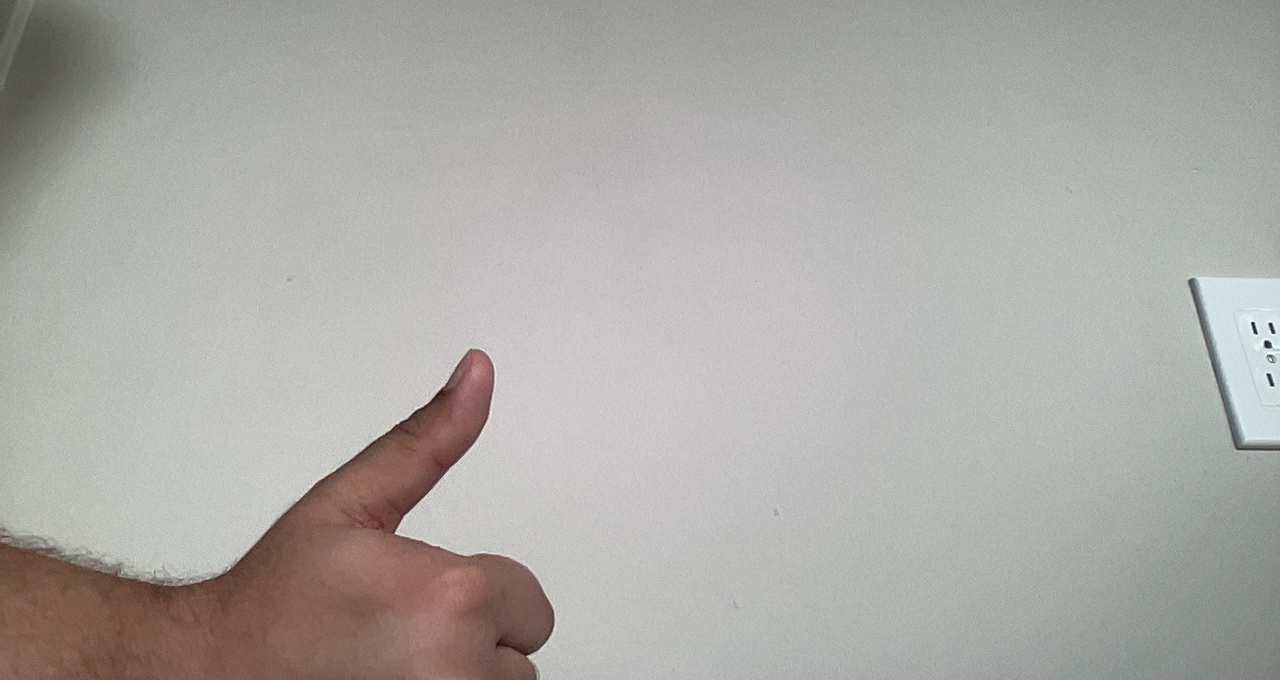thumbsup: (261, 327, 565, 679)
